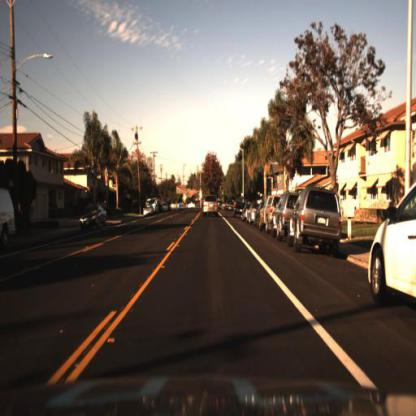car: (367, 180, 416, 314), (291, 183, 346, 258), (287, 183, 345, 251), (273, 188, 297, 246), (77, 200, 107, 238), (273, 187, 291, 240), (79, 202, 109, 233), (259, 197, 273, 237), (203, 190, 221, 221), (143, 202, 156, 218)
